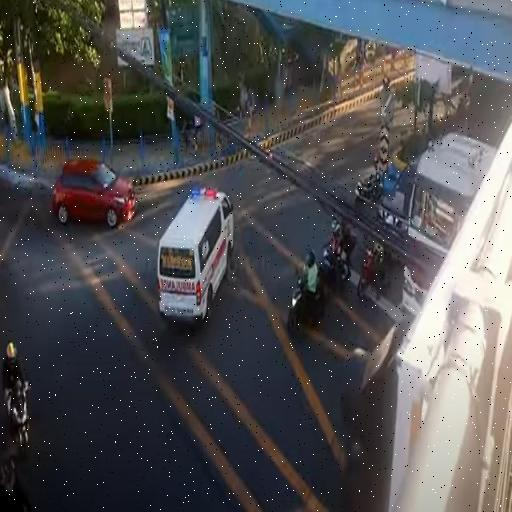Police car: (156, 188, 234, 321)
